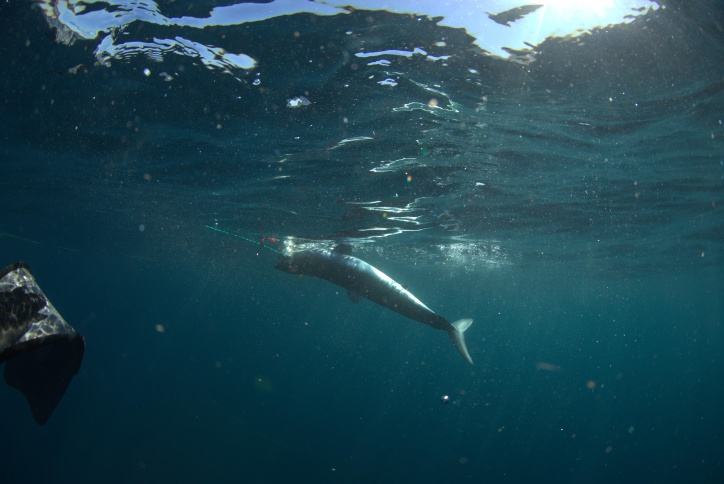Mako: (257, 225, 487, 368)
